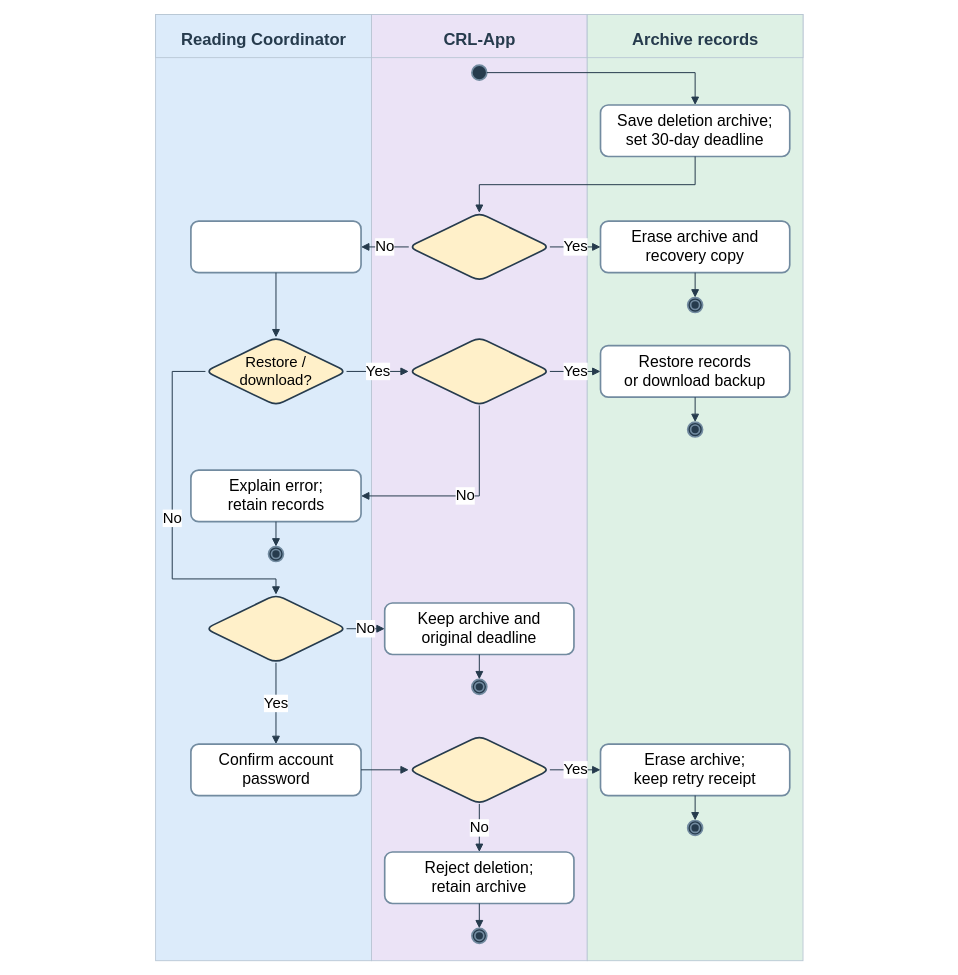
Some shapes in this 958 by 975 pixel diagram are drawn without their labels. Here are the shapes that lost their labels. From the top down, the centre of each, then its label:
At [275,246]: "Show days left for each item".
At [479,246]: "Deadline reached?".
At [479,371]: "Valid request?".
At [275,628]: "Delete forever?".
At [479,769]: "Password valid?".
